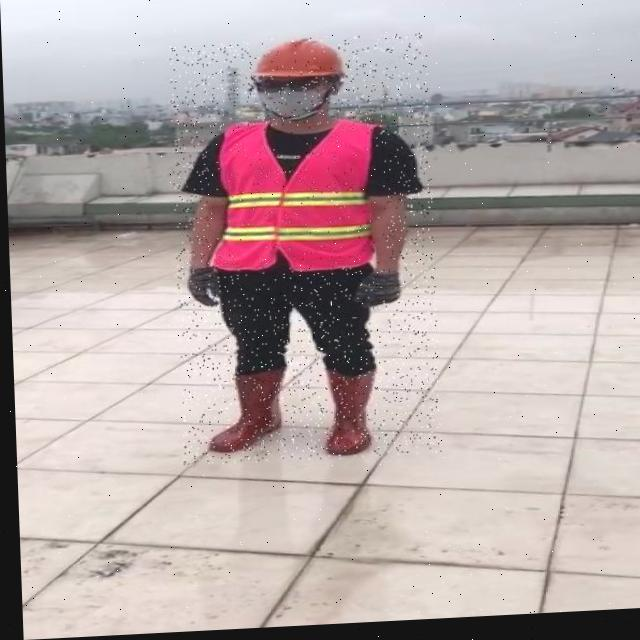Gloves: (351, 272, 400, 310), (187, 267, 219, 310)
Helmet: (250, 39, 348, 125)
Safety-Boot: (203, 369, 284, 455), (320, 368, 375, 459)
Safety-Vest: (207, 118, 385, 279)
